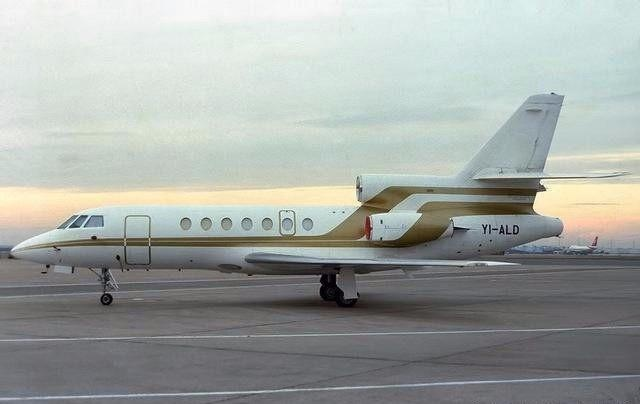airplane: (10, 94, 629, 307)
